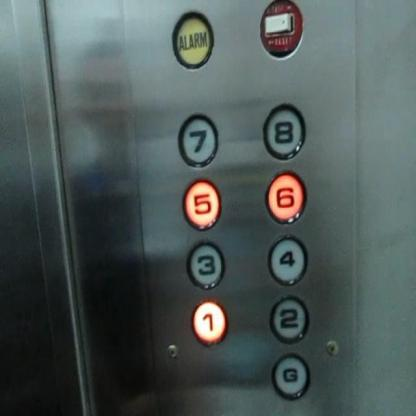1: (190, 298, 229, 347)
2: (268, 292, 309, 342)
3: (186, 240, 224, 290)
4: (267, 232, 308, 285)
5: (182, 177, 220, 229)
6: (263, 168, 306, 225)
7: (178, 112, 217, 167)
8: (262, 102, 305, 162)
G: (270, 352, 310, 399)
bt_switch: (259, 0, 302, 59)
text: (170, 8, 214, 67)
